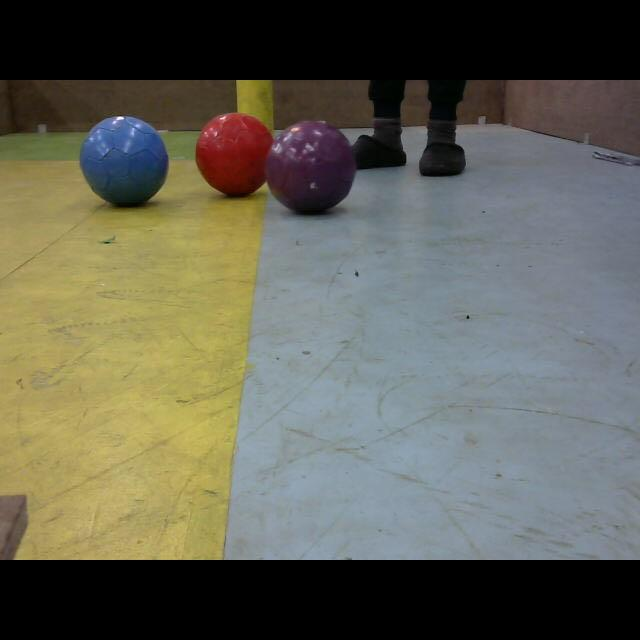B: (78, 116, 170, 207)
P: (266, 118, 358, 214)
R: (194, 111, 276, 197)
